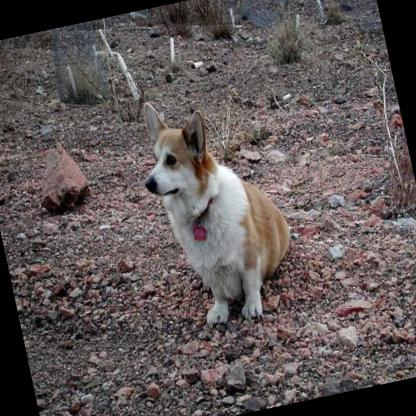Pembroke: (125, 75, 306, 338)
